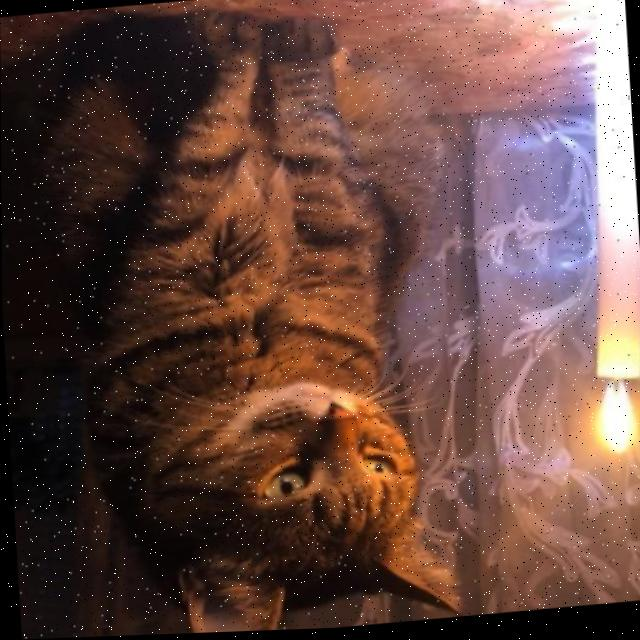Cats: (9, 0, 425, 640)
